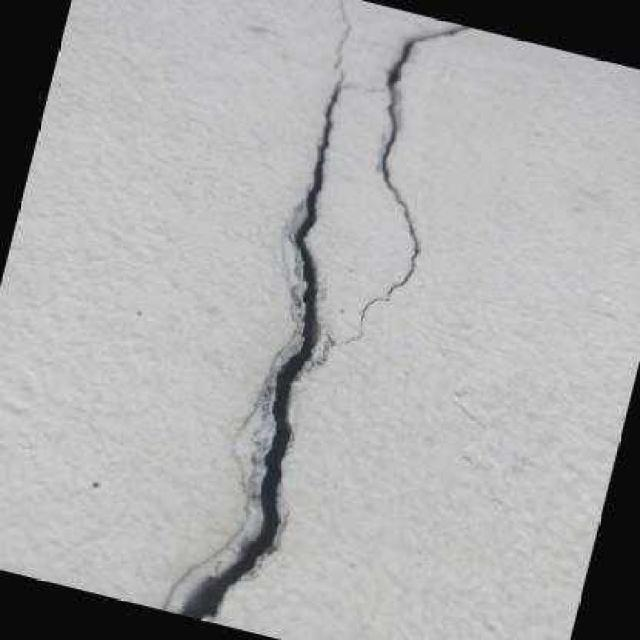D00: (170, 90, 344, 622), (335, 25, 466, 349)
